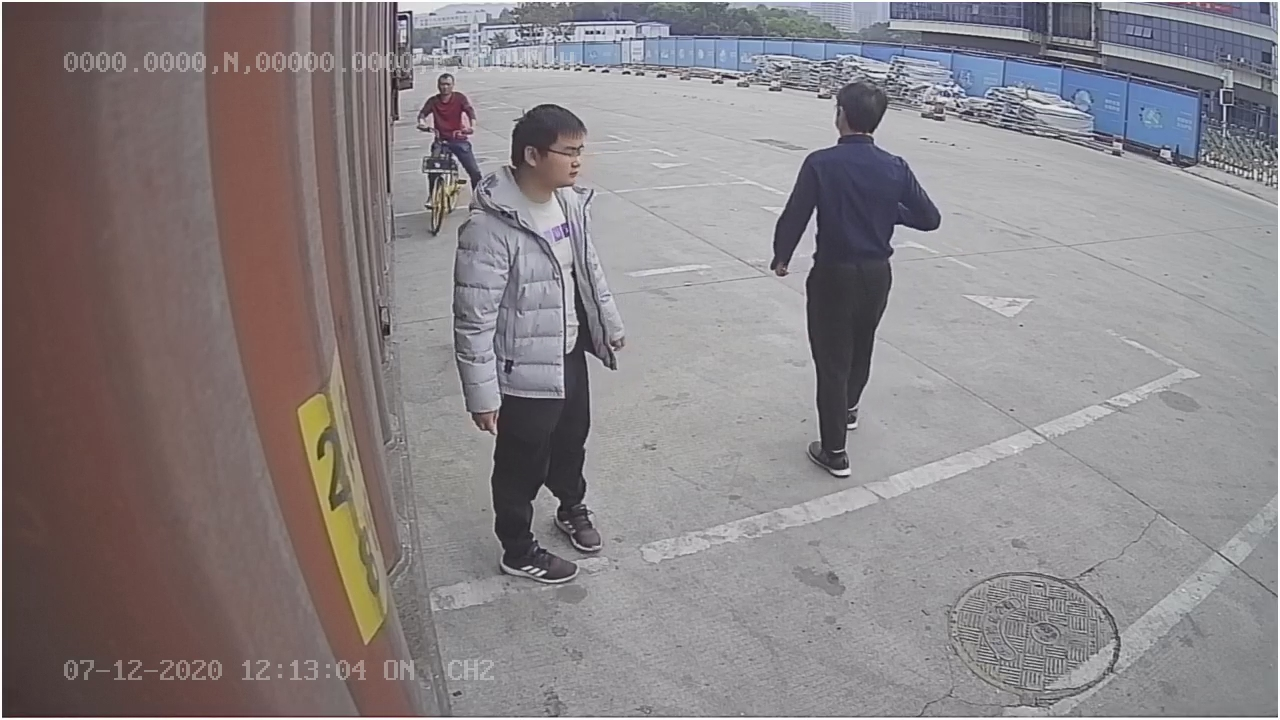person: (426, 85, 648, 593), (771, 73, 944, 476)
